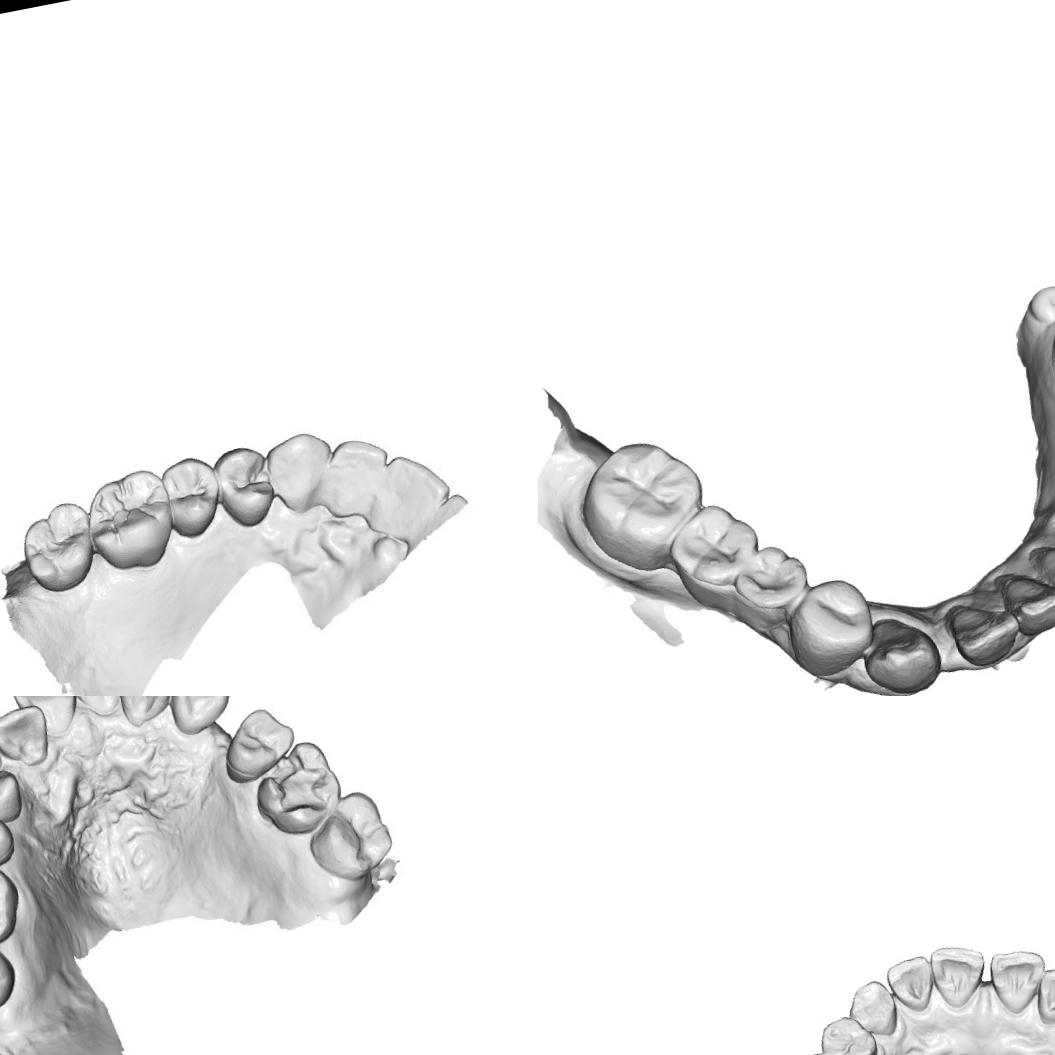canine: (856, 607, 949, 696), (264, 429, 339, 518), (842, 976, 902, 1044), (161, 696, 237, 738)
implant: (1025, 277, 1055, 322)
incisor: (362, 453, 450, 546), (318, 432, 399, 530), (948, 588, 1022, 668), (984, 944, 1054, 1020), (926, 937, 994, 1012), (0, 701, 55, 774), (1003, 563, 1055, 638), (8, 696, 85, 744), (882, 952, 938, 1018), (111, 696, 180, 729), (64, 696, 138, 721), (1028, 960, 1055, 1025)
inlay: (258, 741, 334, 824)
molar: (576, 432, 712, 572), (661, 495, 766, 608), (298, 785, 399, 891), (82, 469, 178, 572), (22, 499, 99, 584), (0, 846, 27, 955), (0, 926, 23, 1021)
premolar: (778, 568, 880, 678), (724, 539, 815, 627), (214, 698, 304, 786), (154, 453, 226, 538), (210, 440, 276, 525), (813, 1008, 881, 1055), (0, 752, 27, 833), (0, 800, 19, 877)
